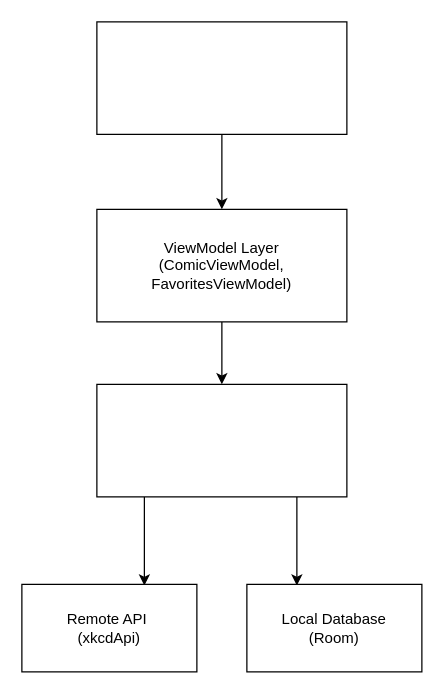
Some shapes in this 444 by 694 pixel diagram are drawn without their labels. Each missing label, with the centre of its shape:
Presentation Layer (ComicScreen, FavoritesScreen): the point at 221,77
Repository Layer (ComicRepository): the point at 221,440
